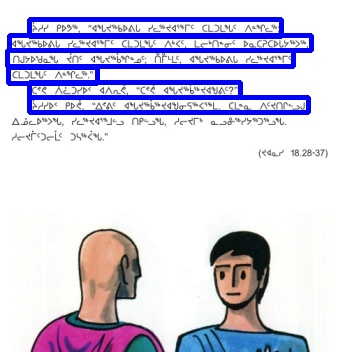inuktitut: (7, 50, 293, 66), (9, 35, 311, 50), (29, 19, 281, 36), (29, 97, 308, 112), (29, 82, 240, 97), (8, 67, 97, 83)
